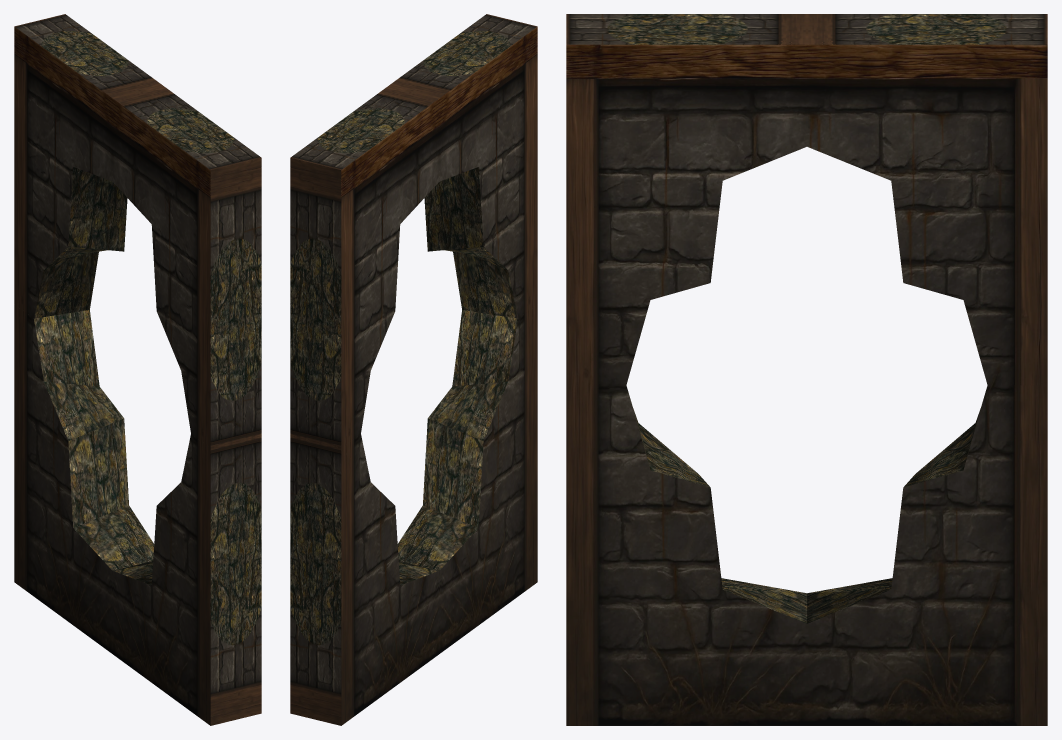
File: blk_cracked_wall.glb
The picture shows the model from 3 angles, left to right: view 1: azimuth 30°, elevation 25°; view 2: azimuth 150°, elevation 25°; view 3: azimuth 270°, elevation 25°; orthographic projection. The views are drawn at different scales.
Visible parts, largest first — view 1: object1.003, object1.004, object1.001, object1.002; view 2: object1.002, object1.001, object1.004, object1.003; view 3: object1.002, object1.003, object1.001, object1.004.
Boxes of the visible parts, bbox=[...] form: object1.003: bbox=[112, 86, 261, 447]; object1.004: bbox=[14, 304, 154, 653]; object1.001: bbox=[112, 434, 261, 725]; object1.002: bbox=[14, 14, 162, 318]; object1.002: bbox=[290, 86, 439, 447]; object1.001: bbox=[397, 304, 537, 653]; object1.004: bbox=[290, 434, 439, 725]; object1.003: bbox=[389, 14, 537, 318]; object1.002: bbox=[807, 14, 1047, 385]; object1.003: bbox=[566, 14, 806, 385]; object1.001: bbox=[566, 385, 806, 725]; object1.004: bbox=[807, 385, 1047, 725].
Bounding box in the file's own units: 0.3 × 3.12 × 2.
1 material, 1 textured.
